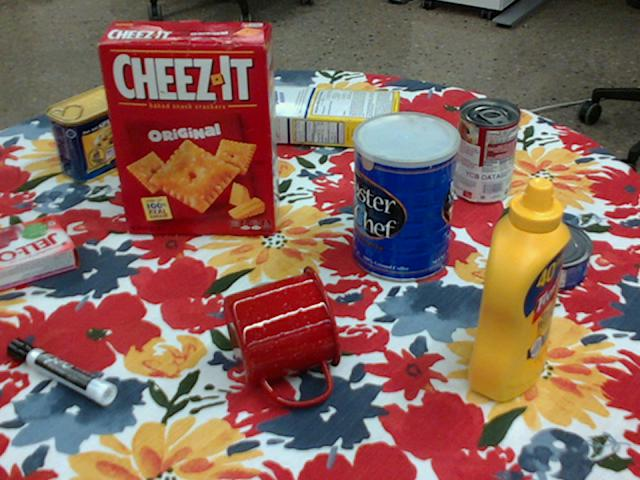cracker_box: (98, 21, 279, 230)
gelatin_box: (0, 214, 79, 291)
large_marker: (6, 336, 116, 404)
master_chef_can: (352, 112, 459, 283)
mug: (222, 266, 343, 406)
mustard_bottle: (467, 178, 569, 402)
potted_meat_can: (46, 83, 137, 181)
sugar_box: (255, 84, 399, 150)
tomato_soup_can: (453, 98, 519, 204)
tuna_fish_can: (502, 220, 591, 293)
